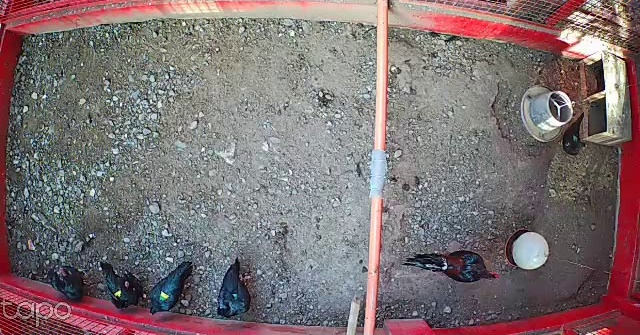Chicken: (143, 257, 197, 317), (215, 259, 264, 323), (44, 261, 101, 302), (98, 261, 145, 307), (555, 108, 593, 157)
Rooster: (401, 244, 507, 290)
Saddle_Color_Yellow: (114, 288, 124, 298)
Saddle_Color_YellowGreen: (156, 289, 171, 303)
